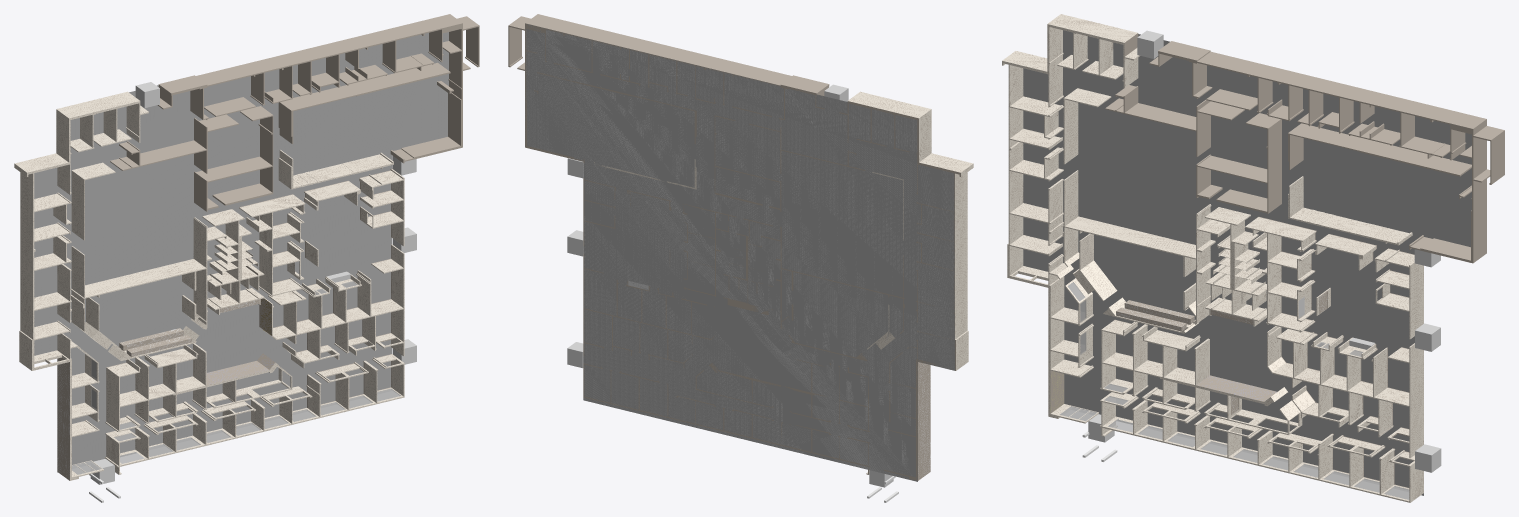
The model's file is willowgarage_hd_closed.glb.
The picture shows the model from 3 angles, left to right: view 1: azimuth 30°, elevation 25°; view 2: azimuth 150°, elevation 25°; view 3: azimuth 330°, elevation 25°; orthographic projection. The views are drawn at different scales.
Parts seen in each view (by area): view 1: SketchUp, instance_0.021, instance_0.006, instance_0.052, instance_0.041, instance_0.038, instance_0.032, instance_0.023, instance_0.036, instance_0.004, instance_0.005, instance_0.002 (+12 smaller); view 2: SketchUp, instance_0.006, instance_0.021, instance_0.022, instance_0.001, instance_0.195, instance_0, instance_0.013; view 3: SketchUp, instance_0.021, instance_0.006, instance_0.052, instance_0.041, instance_0.038, instance_0.032, instance_0.023, instance_0.036, instance_0.004, instance_0.005, instance_0.002 (+15 smaller).
Part boxes in pixels (x1,y1,x2,y2): SketchUp: (34, 32, 448, 472); instance_0.021: (14, 91, 148, 480); instance_0.006: (157, 14, 479, 163); instance_0.052: (264, 244, 404, 368); instance_0.041: (105, 354, 404, 474); instance_0.038: (105, 343, 292, 431); instance_0.032: (70, 217, 207, 333); instance_0.023: (202, 209, 264, 314); instance_0.036: (239, 194, 305, 296); instance_0.004: (194, 106, 273, 211); instance_0.005: (278, 62, 450, 144); instance_0.002: (110, 114, 238, 173); SketchUp: (525, 24, 954, 481); instance_0.006: (508, 14, 829, 163); instance_0.021: (848, 91, 973, 370); instance_0.022: (918, 362, 930, 480); instance_0.001: (583, 363, 870, 474); instance_0.195: (847, 101, 960, 480); instance_0: (583, 253, 715, 367); instance_0.013: (723, 218, 772, 314); SketchUp: (1023, 30, 1471, 495); instance_0.021: (1002, 14, 1139, 423); instance_0.006: (1149, 41, 1504, 263); instance_0.052: (1267, 326, 1423, 458); instance_0.041: (1100, 392, 1423, 502); instance_0.038: (1100, 320, 1302, 434); instance_0.032: (1062, 170, 1211, 324); instance_0.023: (1205, 207, 1266, 326); instance_0.036: (1245, 217, 1316, 332); instance_0.004: (1196, 113, 1281, 213); instance_0.005: (1288, 123, 1471, 176); instance_0.002: (1105, 85, 1244, 156).
Size of the model in its own units: 58.63 by 49.13 by 2.84.
